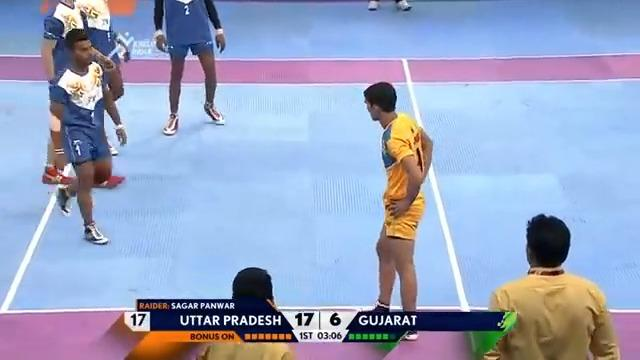Player: (486, 212, 621, 359), (44, 27, 127, 245), (151, 0, 226, 135), (74, 0, 131, 155), (39, 0, 85, 185), (367, 0, 412, 11)
Raider: (361, 80, 433, 340)
referee: (196, 266, 299, 359)
